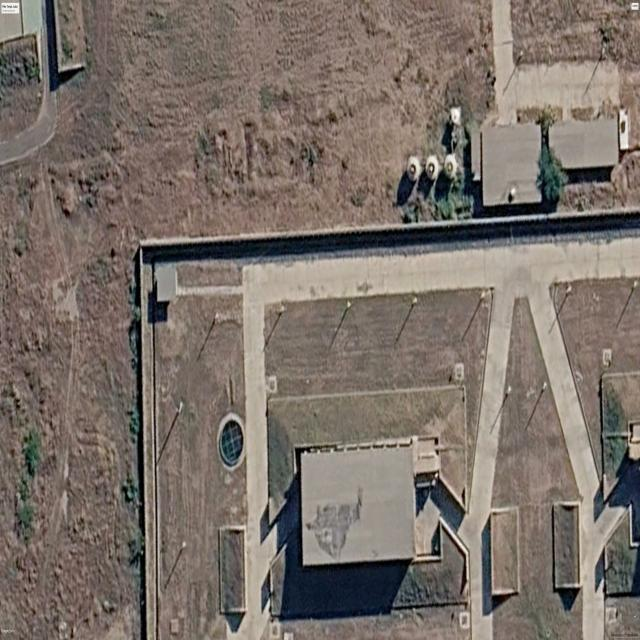Home: (300, 445, 416, 566), (472, 123, 543, 207), (548, 116, 620, 172)
